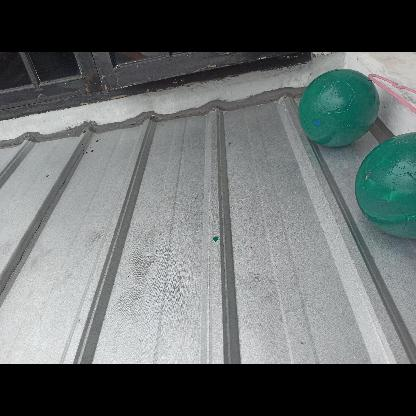green_ball: (298, 65, 380, 147)
